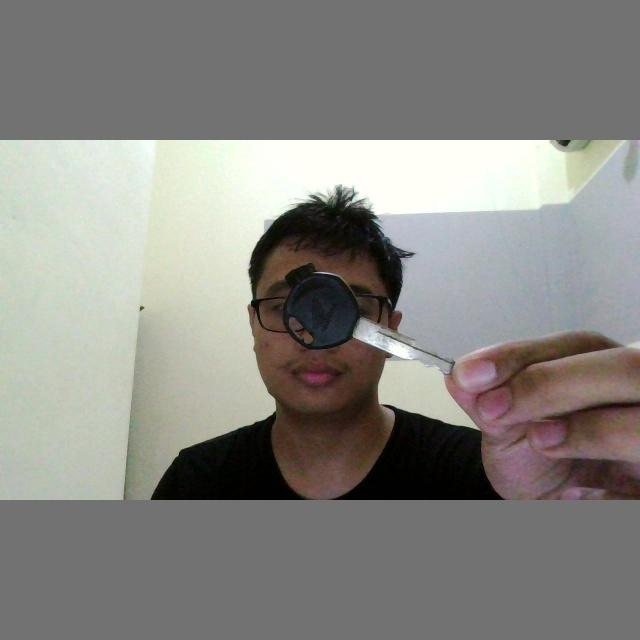Keys: (282, 257, 462, 383)
